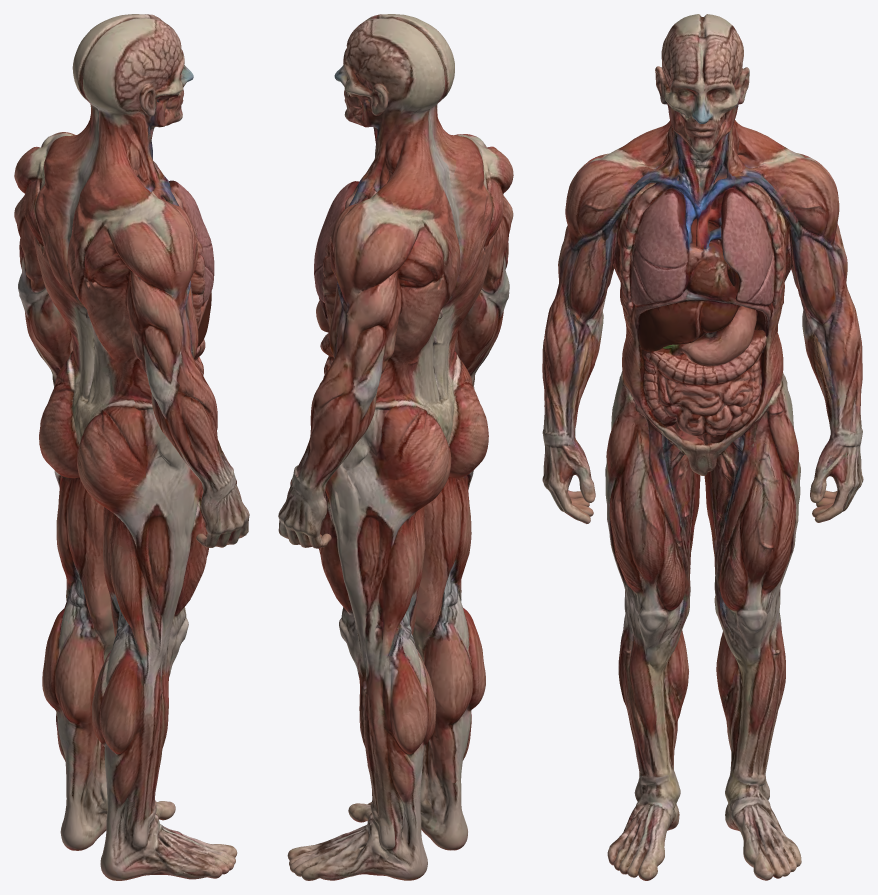
File: anatomy.glb
The picture shows the model from 3 angles, left to right: view 1: azimuth 30°, elevation 25°; view 2: azimuth 150°, elevation 25°; view 3: azimuth 270°, elevation 25°; orthographic projection.
Parts seen in each view (by area): view 1: tripo_node_042f6383-1376-4d42-b684-4d68d6470fbd; view 2: tripo_node_042f6383-1376-4d42-b684-4d68d6470fbd; view 3: tripo_node_042f6383-1376-4d42-b684-4d68d6470fbd.
Part boxes in pixels (x1,y1,x2,y2): tripo_node_042f6383-1376-4d42-b684-4d68d6470fbd: [14, 14, 249, 880]; tripo_node_042f6383-1376-4d42-b684-4d68d6470fbd: [278, 14, 513, 880]; tripo_node_042f6383-1376-4d42-b684-4d68d6470fbd: [542, 14, 863, 880].
Size of the model in its own units: 0.1863 by 0.9958 by 0.3503.
Materials: 1 (1 with a texture image).
